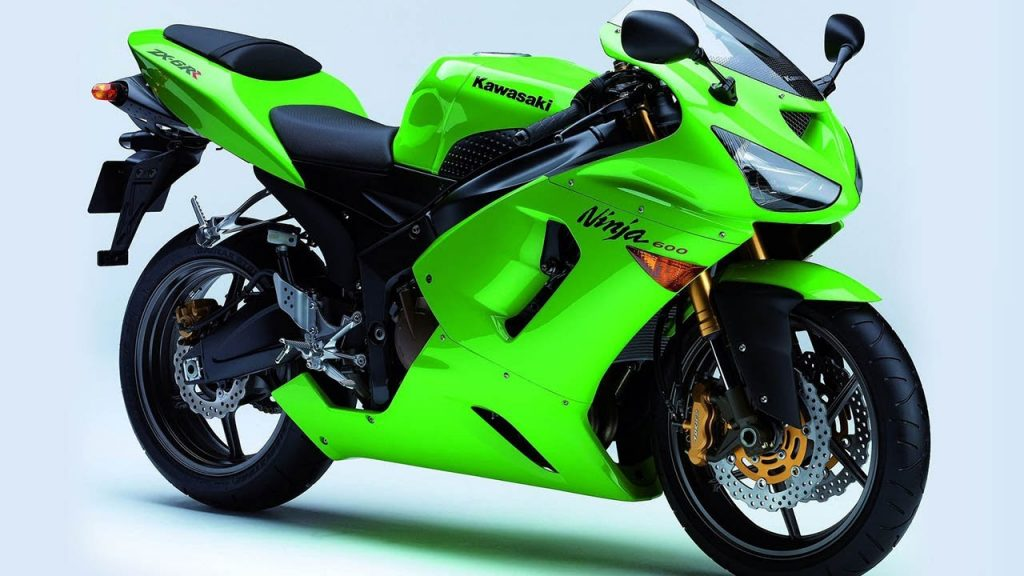bike: (89, 1, 931, 576)
